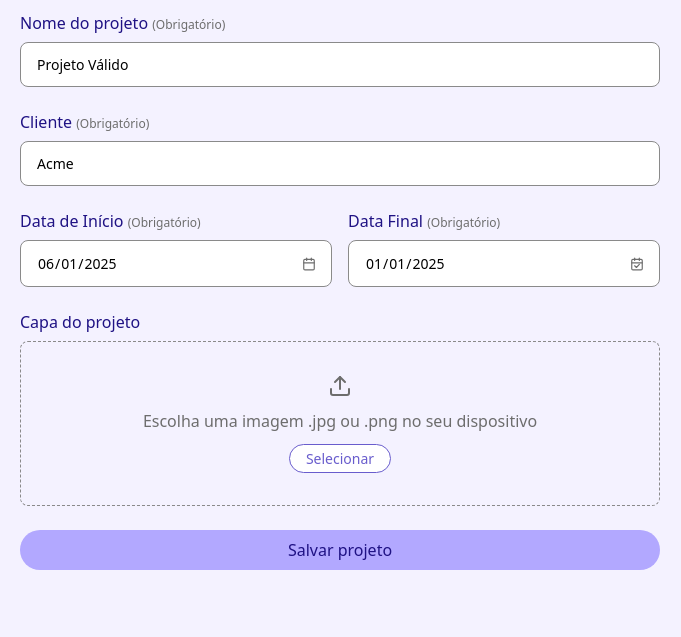
Scenario: ProjectForm › rejeita data final anterior à data de início
Click the button "Salvar projeto": [340, 550] box [20,530,660,570]
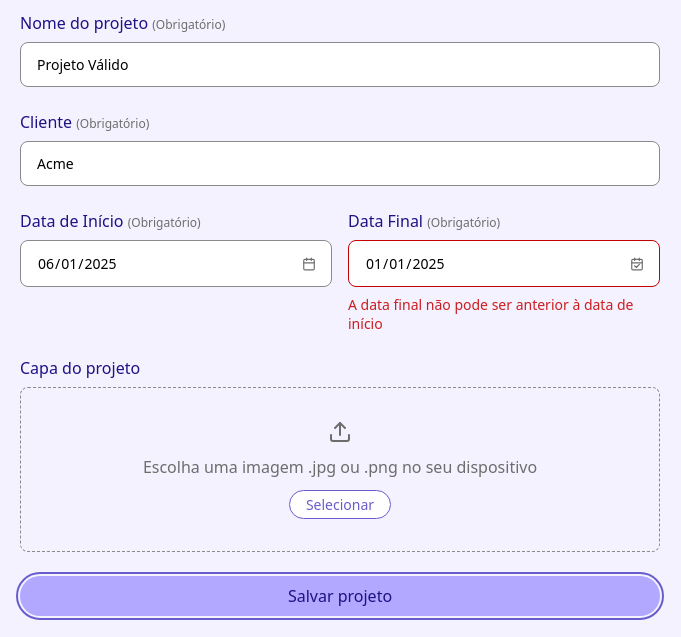
Expected: the text "A data final não pode ser anterior à data de início" is shown, [348,295,660,333]
